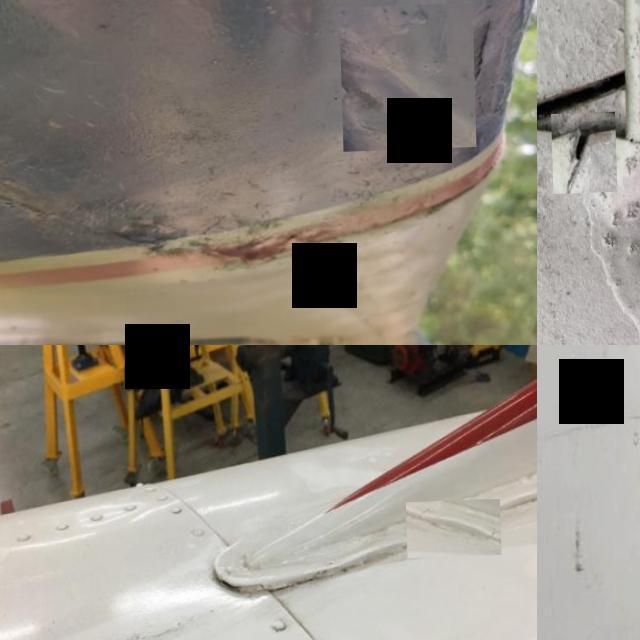Crack: (194, 532, 393, 614), (404, 504, 499, 562), (550, 115, 616, 197), (83, 613, 182, 640)
Dent: (338, 7, 473, 155)
